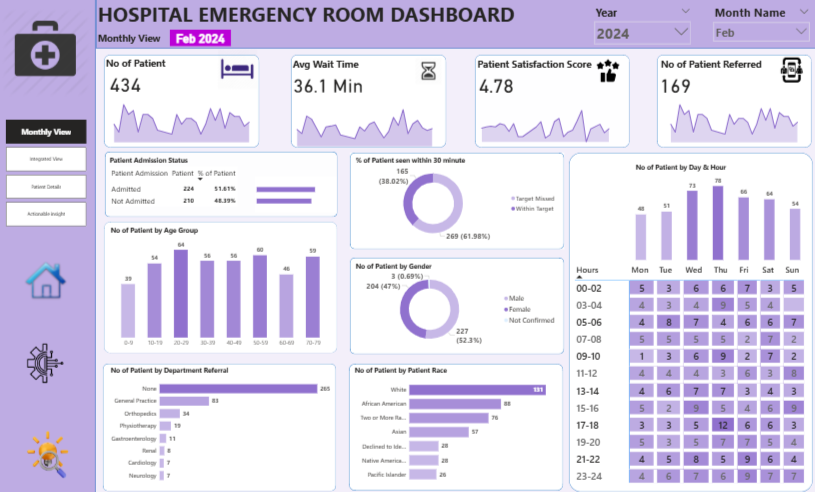

The page's visual inventory and layout, read from the dashboard file:
{"tool":"powerbi","page":{"name":"Monthly View","canvas":[2300,1400],"ordinal":0},"visuals":[{"type":"shape","box":[305,427,651,183],"z":0},{"type":"shape","box":[280,0,2020.4,140],"z":1000},{"type":"textbox","box":[280,0,1323.1,115.3],"z":2000},{"type":"textbox","box":[280,86.7,206.7,53.3],"z":3000},{"type":"shape","box":[0,0,280,1400],"z":4000},{"type":"shape","box":[303.3,156.7,435,260],"z":5000},{"type":"card","fields":{"Values":["Hospital ER_Data.No of Patient"]},"box":[302.5,197.5,120,70],"z":6000},{"type":"slicer","fields":{"Values":["Date Table.Month Name"]},"box":[1998.6,10,288.6,121.4],"z":7000},{"type":"slicer","fields":{"Values":["Date Table.Year"]},"box":[1665.7,10,290,115.7],"z":8000},{"type":"lineChart","fields":{"Category":["Date Table.Date.Variation.Date Hierarchy.Day"],"Y":["Hospital ER_Data.No of Patient"]},"box":[302.5,277.5,435,130],"z":9000},{"type":"textbox","box":[302.5,157.5,210,50],"z":10000},{"type":"shape","box":[1851.7,156.7,433.3,260],"z":11000},{"type":"shape","box":[1341.7,156.7,433.3,260],"z":12000},{"type":"shape","box":[825,156.7,435,260],"z":13000},{"type":"textbox","box":[826.7,158.3,398.3,46.7],"z":14000},{"type":"textbox","box":[1336.7,158.3,433.3,50],"z":15000},{"type":"textbox","box":[1855,158.3,415,50],"z":16000},{"type":"lineChart","fields":{"Y":["Sum(Hospital ER_Data.Patient Waittime)"],"Category":["Date Table.Date.Variation.Date Hierarchy.Day"]},"box":[815,288.3,435,130],"z":17000},{"type":"card","fields":{"Values":["Hospital ER_Data.Avg Wait Time"]},"box":[820,205,220,63.3],"z":18000},{"type":"lineChart","fields":{"Y":["Sum(Hospital ER_Data.Patient Satisfaction Score)"],"Category":["Date Table.Date.Variation.Date Hierarchy.Day"]},"box":[1331.4,277.1,411.4,130],"z":19000},{"type":"card","fields":{"Values":["Hospital ER_Data.Avg Satisfaction Score"]},"box":[1326.7,200,148.3,78.3],"z":20000},{"type":"lineChart","fields":{"Category":["Date Table.Date.Variation.Date Hierarchy.Day"],"Y":["CountNonNull(Hospital ER_Data.Department Referral)"]},"box":[1863.3,278.3,410,130],"z":21000},{"type":"card","fields":{"Values":["Hospital ER_Data.Patient Referred"]},"box":[1843.3,200,120,76.7],"z":22000},{"type":"pivotTable","title":"Patient Admission Status","fields":{"Rows":["Hospital ER_Data.Patient Admission"],"Values":["Hospital ER_Data.No of Patient1","Hospital ER_Data.No of Patient"]},"box":[314.4,440,410,152.2],"z":23000},{"type":"barChart","fields":{"Y":["Hospital ER_Data.No of Patient"],"Category":["Hospital ER_Data.Patient Admission"]},"box":[724.4,498.9,228.9,98.9],"z":24000},{"type":"shape","box":[303.3,625,653.3,368.3],"z":25000},{"type":"clusteredColumnChart","fields":{"Category":["Hospital ER_Data.Age Group"],"Y":["Hospital ER_Data.No of Patient"]},"box":[315,636.7,626.7,348.3],"z":26000},{"type":"shape","box":[300,1021.4,652.9,357.1],"z":27000},{"type":"clusteredBarChart","fields":{"Y":["Hospital ER_Data.No of Patient"],"Category":["Hospital ER_Data.Department Referral"]},"box":[315.7,1028.6,625.7,340],"z":28000},{"type":"shape","box":[990,430,600,270],"z":29000},{"type":"donutChart","title":"% of Patient seen within 30 minute","fields":{"Y":["Hospital ER_Data.No of Patient"],"Category":["Hospital ER_Data.Waittime Status"]},"box":[1001.1,440,576.7,246.7],"z":30000},{"type":"shape","box":[990,724,600,270],"z":31000},{"type":"donutChart","title":"No of Patient by Gender","fields":{"Y":["Hospital ER_Data.No of Patient"],"Category":["Hospital ER_Data.Patient Gender"]},"box":[1002,736,576,246],"z":32000},{"type":"shape","box":[987.1,1022.9,600,355.7],"z":33000},{"type":"shape","box":[1603.3,430,683.3,950],"z":34000},{"type":"clusteredBarChart","fields":{"Y":["Hospital ER_Data.No of Patient"],"Category":["Hospital ER_Data.Patient Race"]},"box":[998.6,1028.6,580,340],"z":35000},{"type":"pivotTable","fields":{"Columns":["Date Table.Day  Name"],"Rows":["Hospital ER_Data.Admission time interval"],"Values":["Hospital ER_Data.No of Patient"]},"box":[1615,735,658.3,630],"z":36000},{"type":"columnChart","title":"No of Patient by Day & Hour","fields":{"Category":["Date Table.Day  Name"],"Y":["Hospital ER_Data.No of Patient"]},"box":[1786.7,458.3,473.3,278.3],"z":37000},{"type":"image","box":[1661.7,165,106.7,73.3],"z":38000},{"type":"image","box":[1165,160,93.3,85],"z":39000},{"type":"image","box":[617.1,138.6,121.4,121.4],"z":40000},{"type":"image","box":[2181.7,158.3,95,80],"z":41000},{"type":"image","box":[11.4,0,255.7,300],"z":42000},{"type":"pageNavigator","box":[26.7,338.3,225,300],"z":43000},{"type":"actionButton","box":[66.7,700,145,175],"z":44000},{"type":"image","box":[66.7,1198.3,161.7,155],"z":45000},{"type":"card","fields":{"Values":["Min(Date Table.Month & Year)"]},"box":[486.2,86.2,171.2,46.2],"z":46000},{"type":"image","box":[63.3,951.7,148.3,138.3],"z":47000}]}

Visuals, with their boxes in screenshot pixels (x1, y1, x2, y2), scaled from the page's 2300x1400 canvas onto the 815x492 screenshot:
shape: [108, 150, 339, 214]
shape: [99, 0, 814, 49]
textbox: [99, 0, 568, 41]
textbox: [99, 30, 172, 49]
shape: [0, 0, 99, 491]
shape: [107, 55, 262, 146]
card - Hospital ER_Data.No of Patient: [107, 69, 150, 94]
slicer - Date Table.Month Name: [708, 4, 810, 46]
slicer - Date Table.Year: [590, 4, 693, 44]
lineChart - Date Table.Date.Variation.Date Hierarchy.Day x Hospital ER_Data.No of Patient: [107, 98, 261, 143]
textbox: [107, 55, 182, 73]
shape: [656, 55, 810, 146]
shape: [475, 55, 629, 146]
shape: [292, 55, 446, 146]
textbox: [293, 56, 434, 72]
textbox: [474, 56, 627, 73]
textbox: [657, 56, 804, 73]
lineChart - Sum(Hospital ER_Data.Patient Waittime) x Date Table.Date.Variation.Date Hierarchy.Day: [289, 101, 443, 147]
card - Hospital ER_Data.Avg Wait Time: [291, 72, 369, 94]
lineChart - Sum(Hospital ER_Data.Patient Satisfaction Score) x Date Table.Date.Variation.Date Hierarchy.Day: [472, 97, 618, 143]
card - Hospital ER_Data.Avg Satisfaction Score: [470, 70, 523, 98]
lineChart - Date Table.Date.Variation.Date Hierarchy.Day x CountNonNull(Hospital ER_Data.Department Referral): [660, 98, 806, 143]
card - Hospital ER_Data.Patient Referred: [653, 70, 696, 97]
"Patient Admission Status" pivotTable: [111, 155, 257, 208]
barChart - Hospital ER_Data.No of Patient x Hospital ER_Data.Patient Admission: [257, 175, 338, 210]
shape: [107, 220, 339, 349]
clusteredColumnChart - Hospital ER_Data.Age Group x Hospital ER_Data.No of Patient: [112, 224, 334, 346]
shape: [106, 359, 338, 484]
clusteredBarChart - Hospital ER_Data.No of Patient x Hospital ER_Data.Department Referral: [112, 361, 334, 481]
shape: [351, 151, 563, 246]
"% of Patient seen within 30 minute" donutChart: [355, 155, 559, 241]
shape: [351, 254, 563, 349]
"No of Patient by Gender" donutChart: [355, 259, 559, 345]
shape: [350, 359, 562, 484]
shape: [568, 151, 810, 485]
clusteredBarChart - Hospital ER_Data.No of Patient x Hospital ER_Data.Patient Race: [354, 361, 559, 481]
pivotTable - Date Table.Day  Name x Hospital ER_Data.Admission time interval: [572, 258, 806, 480]
"No of Patient by Day & Hour" columnChart: [633, 161, 801, 259]
image: [589, 58, 627, 84]
image: [413, 56, 446, 86]
image: [219, 49, 262, 91]
image: [773, 56, 807, 84]
image: [4, 0, 95, 105]
pageNavigator: [9, 119, 89, 224]
actionButton: [24, 246, 75, 308]
image: [24, 421, 81, 476]
card - Min(Date Table.Month & Year): [172, 30, 233, 47]
image: [22, 334, 75, 383]
